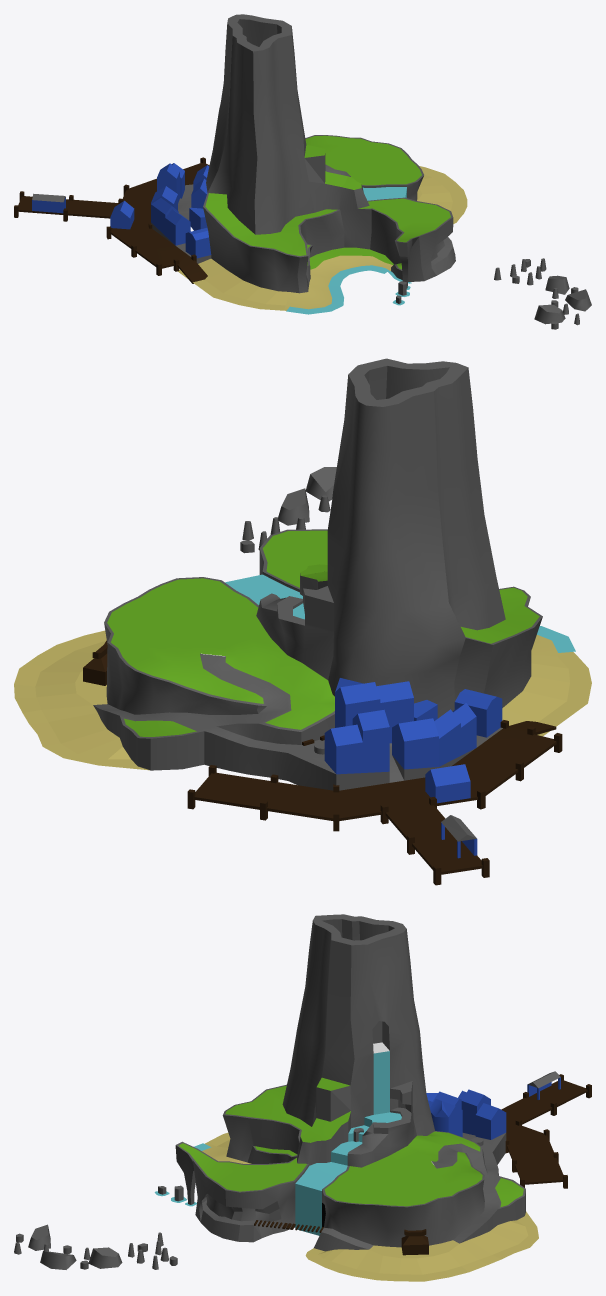
File: SM_BeachScene (5).fbx
3 views of the same model, one above another, from view 1: azimuth 30°, elevation 25°; view 2: azimuth 150°, elevation 25°; view 3: azimuth 270°, elevation 25° (orthographic). The views are drawn at different scales.
Parts seen in each view (by area): view 1: Cliffs, Sand, Box006, Box051, Box041, Box035, Waves2, Object001, Waves1, Box044, Plane002, Cylinder010 (+1 smaller); view 2: Cliffs, Sand, Box006, Box042, Object001, Box040, Box043, Box035, Box041, Box045, Plane002, Box044 (+4 smaller); view 3: Cliffs, Sand, Box006, Plane002, Box040, Box043, Object001, Rocks, Box007, Cylinder023, Cylinder019.
Boxes of the visible parts, x1=… form: Cliffs: x1=151, y1=14, x2=455, y2=293; Sand: x1=178, y1=166, x2=467, y2=310; Box006: x1=18, y1=162, x2=209, y2=283; Box051: x1=165, y1=209, x2=190, y2=245; Box041: x1=185, y1=227, x2=211, y2=258; Box035: x1=110, y1=200, x2=134, y2=229; Waves2: x1=286, y1=268, x2=387, y2=314; Object001: x1=157, y1=163, x2=179, y2=203; Waves1: x1=288, y1=265, x2=389, y2=311; Box044: x1=151, y1=198, x2=178, y2=235; Plane002: x1=363, y1=187, x2=406, y2=200; Cylinder010: x1=534, y1=304, x2=565, y2=324; Cliffs: x1=93, y1=358, x2=542, y2=790; Sand: x1=14, y1=564, x2=591, y2=770; Box006: x1=194, y1=721, x2=556, y2=874; Box042: x1=392, y1=718, x2=438, y2=769; Object001: x1=352, y1=709, x2=389, y2=772; Box040: x1=324, y1=724, x2=362, y2=774; Box043: x1=335, y1=678, x2=380, y2=727; Box035: x1=425, y1=764, x2=470, y2=803; Box041: x1=454, y1=689, x2=502, y2=737; Box045: x1=376, y1=681, x2=413, y2=743; Plane002: x1=225, y1=574, x2=304, y2=619; Box044: x1=434, y1=709, x2=460, y2=766; Cliffs: x1=175, y1=914, x2=525, y2=1251; Sand: x1=202, y1=1086, x2=538, y2=1281; Box006: x1=501, y1=1080, x2=587, y2=1184; Plane002: x1=295, y1=1051, x2=401, y2=1235; Box040: x1=475, y1=1103, x2=506, y2=1139; Box043: x1=430, y1=1099, x2=462, y2=1136; Object001: x1=461, y1=1089, x2=490, y2=1135; Rocks: x1=158, y1=1146, x2=297, y2=1201; Box007: x1=401, y1=1229, x2=428, y2=1255; Cylinder023: x1=88, y1=1247, x2=122, y2=1268; Cylinder019: x1=40, y1=1251, x2=76, y2=1269.
Size of what is drawn, in the model's own units: 10609 by 6047 by 13245.
